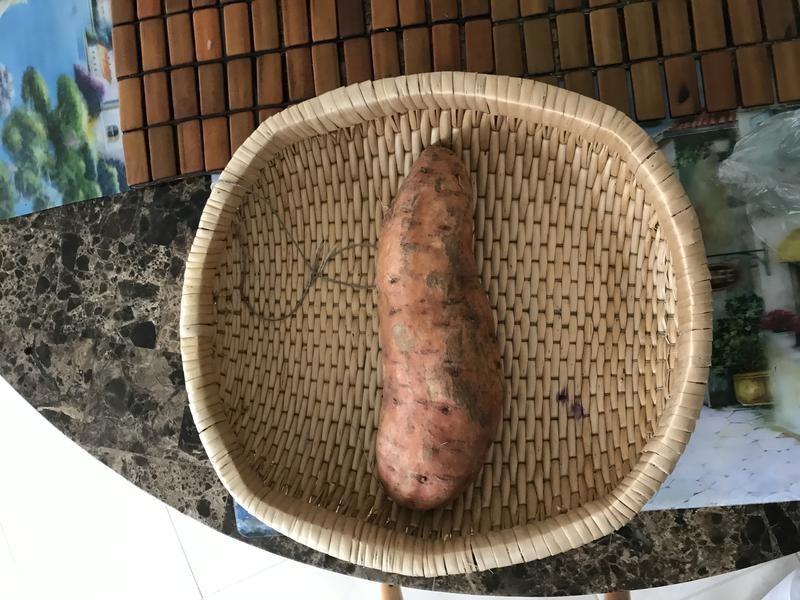sweet_potato: (364, 137, 512, 521)
